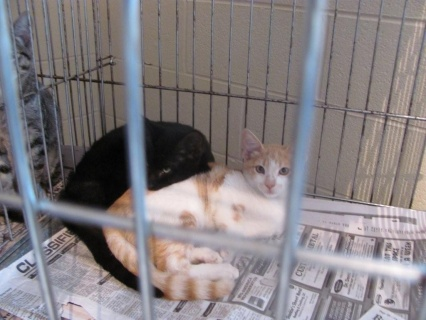Cat: (101, 128, 307, 300), (52, 111, 214, 300)
